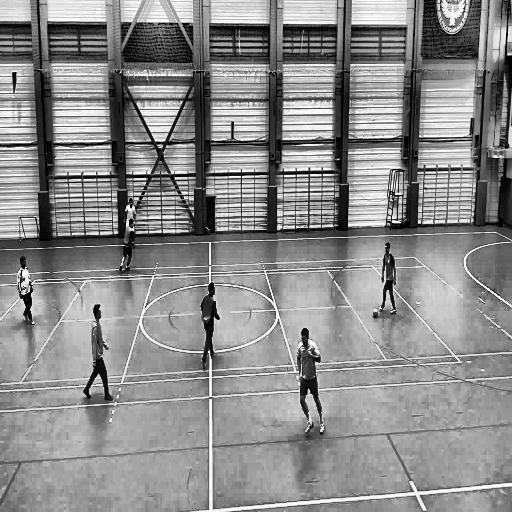ball: (372, 306, 378, 318)
player: (294, 327, 324, 437), (83, 302, 114, 405), (200, 280, 220, 370), (16, 254, 39, 326), (379, 241, 398, 316), (120, 220, 134, 273), (123, 198, 138, 219)
